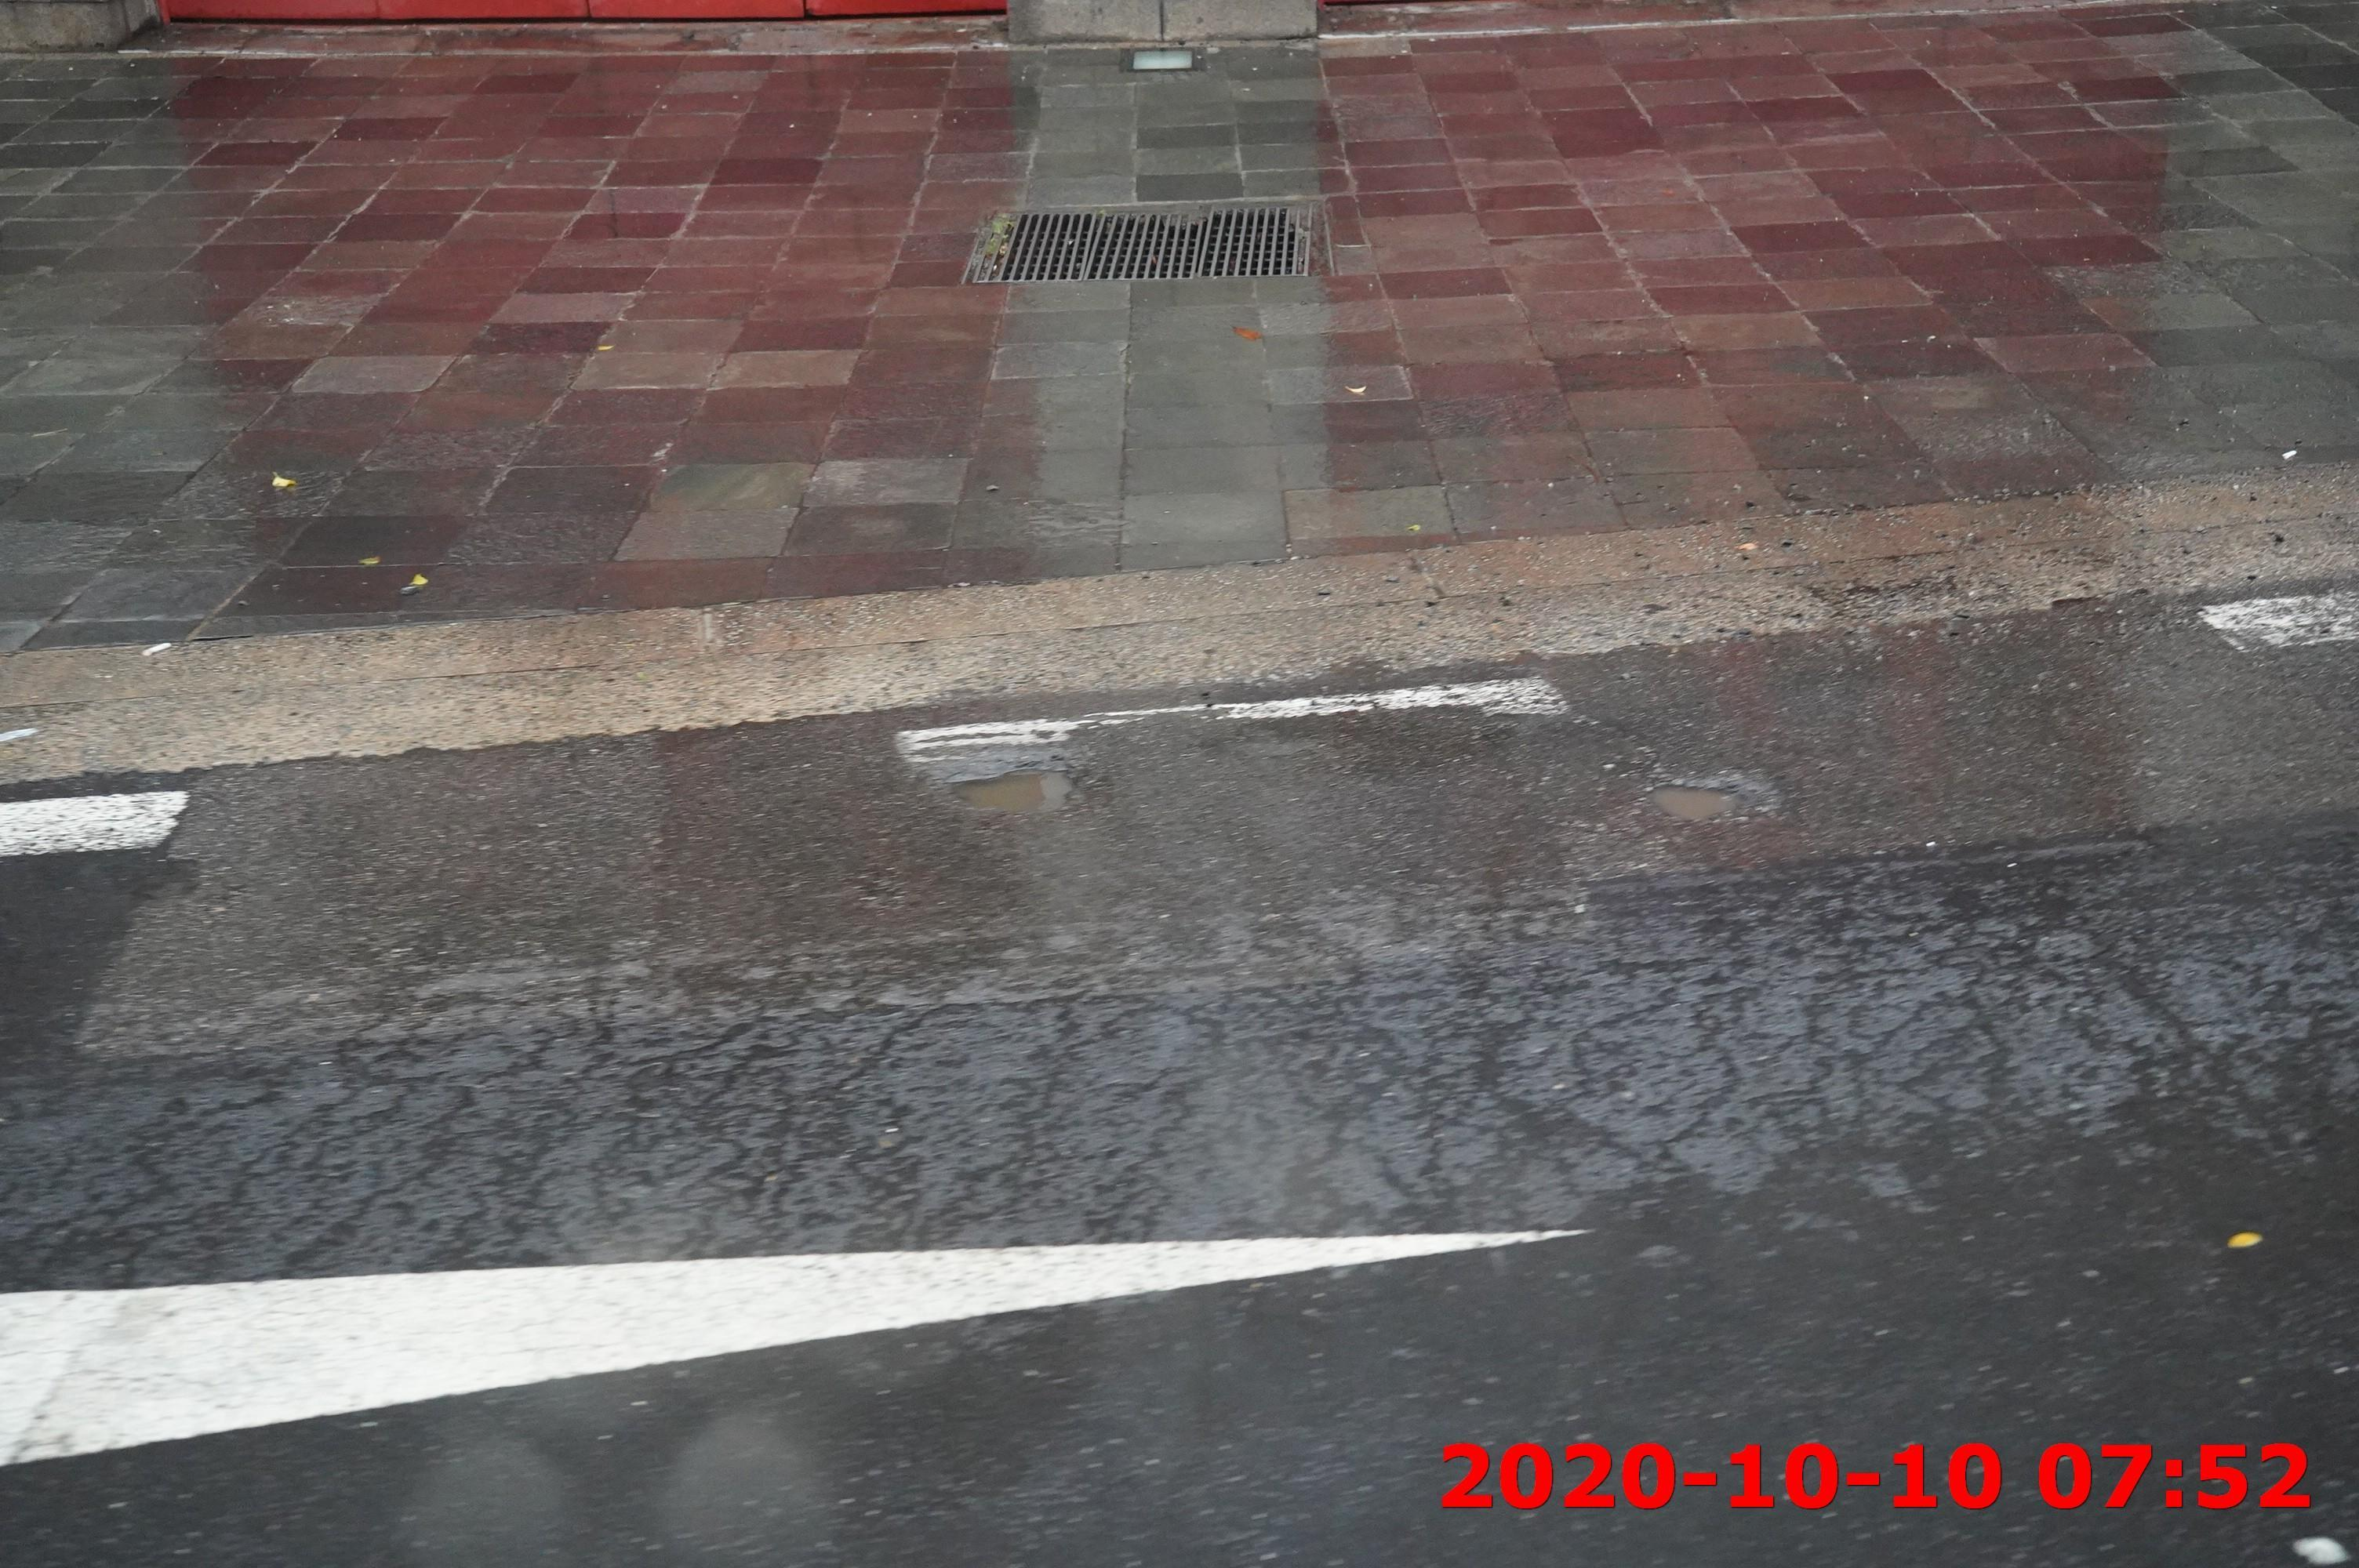peel off with cracks: (1748, 481, 2359, 641)
peeling off premix: (1645, 768, 1780, 838)
pothole with crack: (934, 747, 1095, 833)
